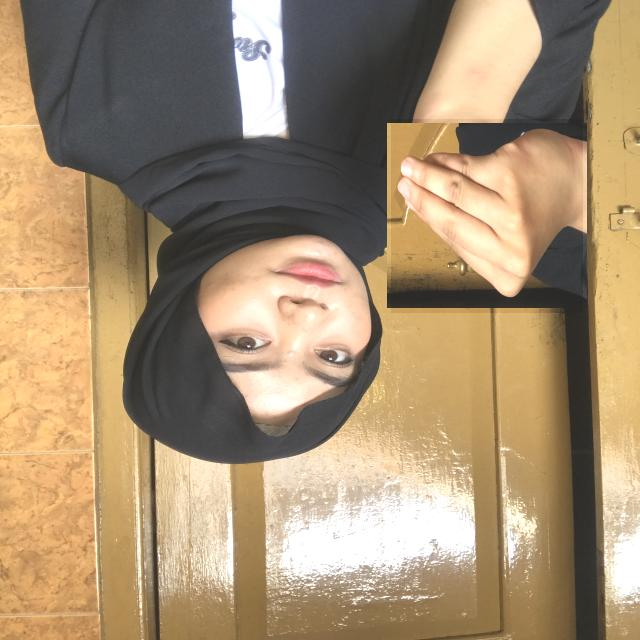kapan: (391, 119, 583, 313)
